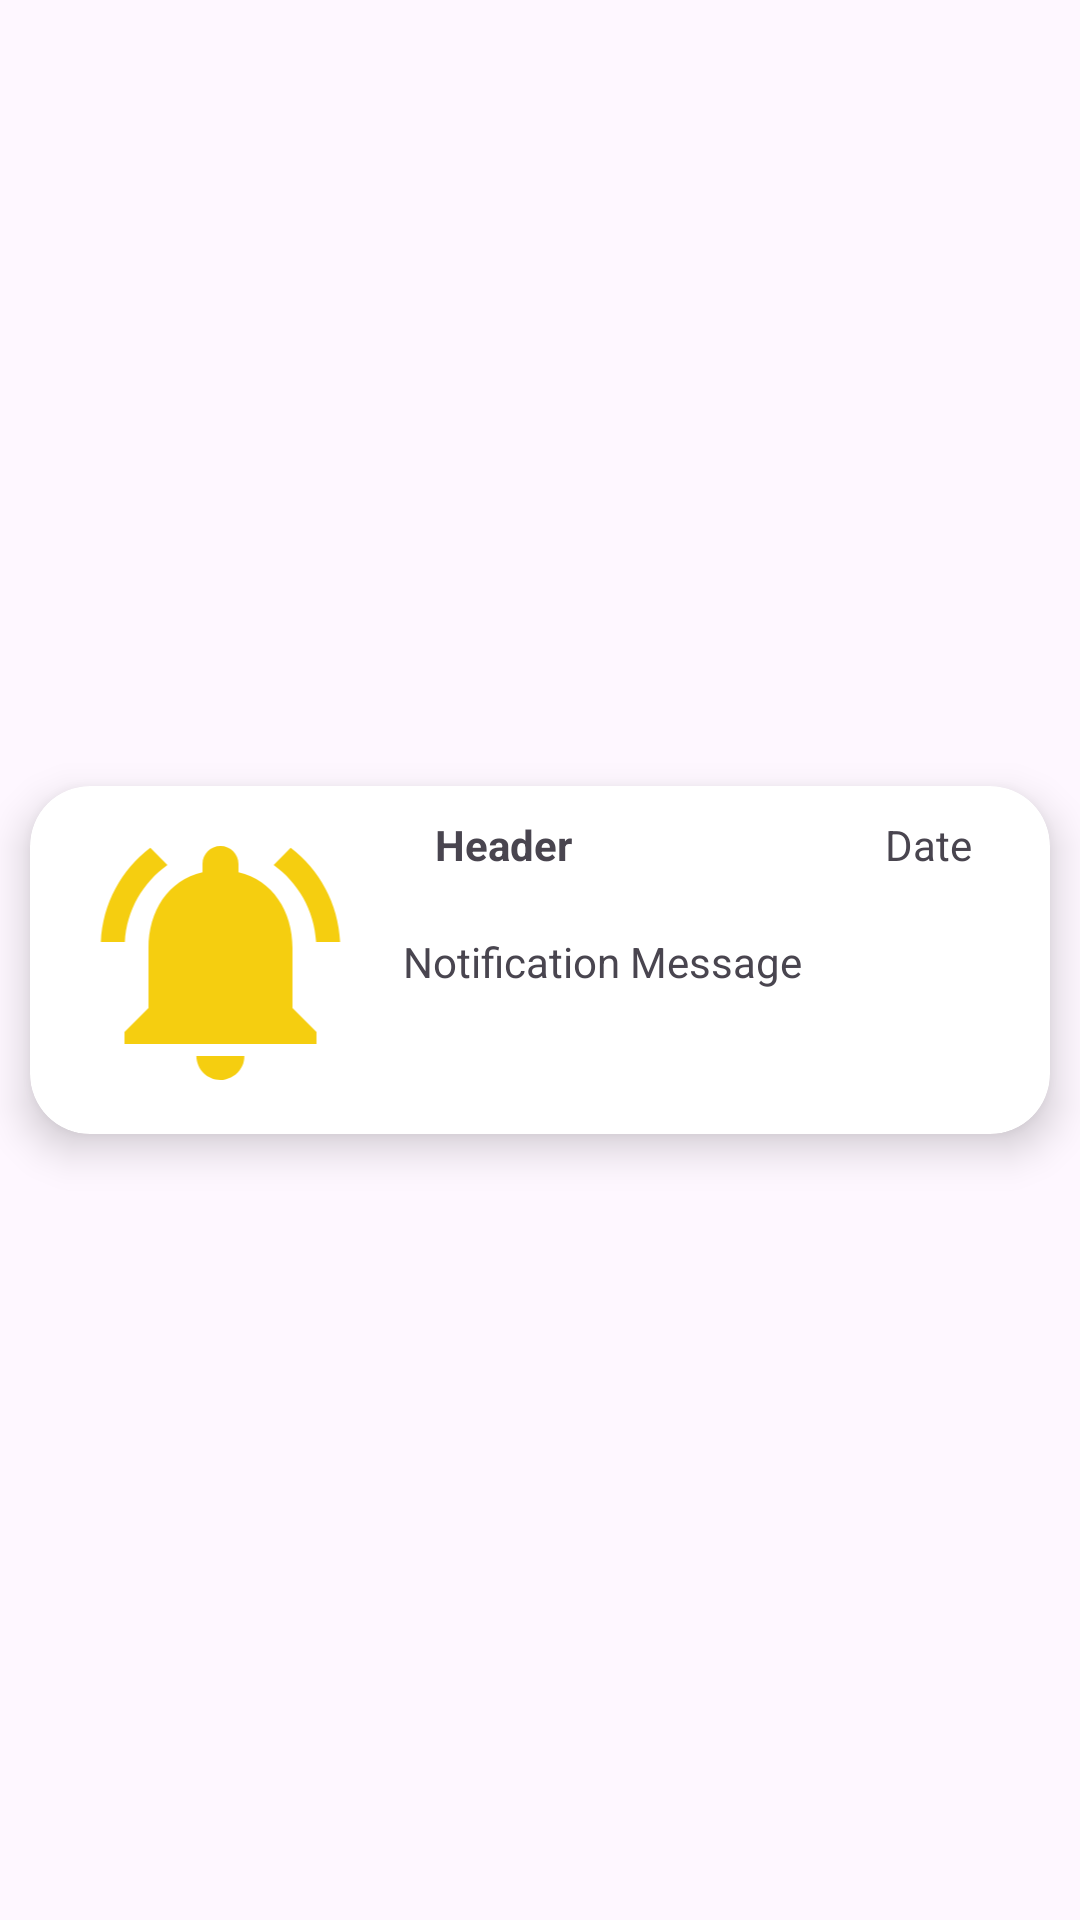

Screen size 1080x1920. Icon name, then its box in pixels as (x1=x1, y1=y1, x2=x2, y2=y2):
budget limit nearing: (x1=100, y1=846, x2=341, y2=1080)
